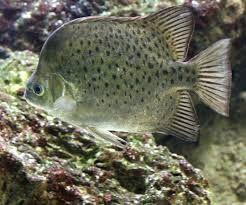Scat Fish: (23, 6, 232, 144)
